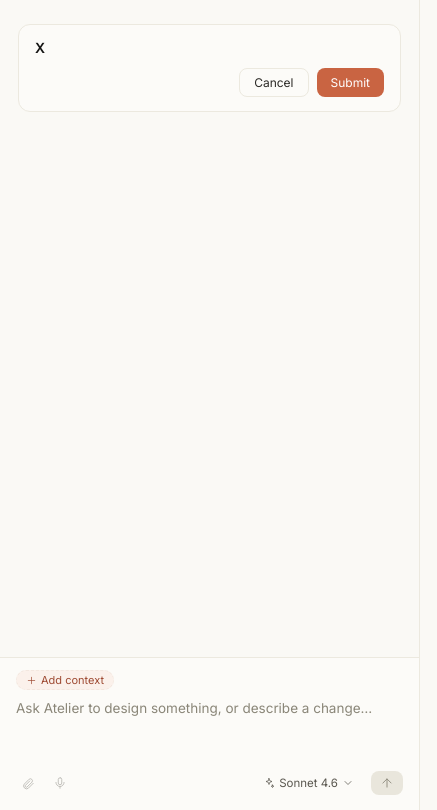
Test: ChatPanel › questions_v2 form wiring › cancel sends the "Skipped all questions" hint and unmounts the form
The image size is (437, 810).
Step 1. Click the button "Cancel" → click(274, 82), box 239,68 -> 308,97
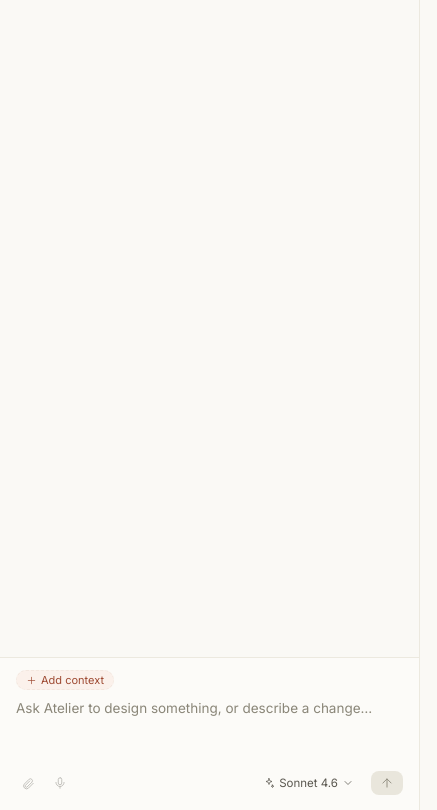
Check: the button "Submit" is gone
